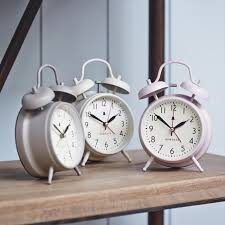alarm_clock: (63, 53, 137, 165)
